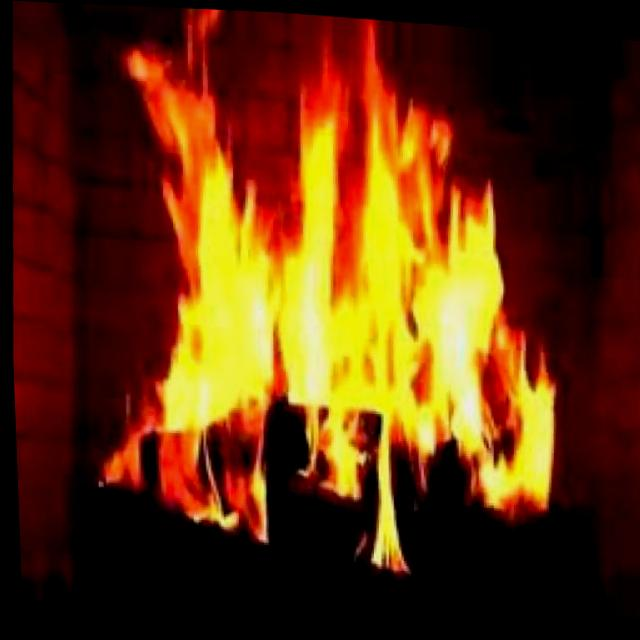Fire: (68, 2, 576, 584)
